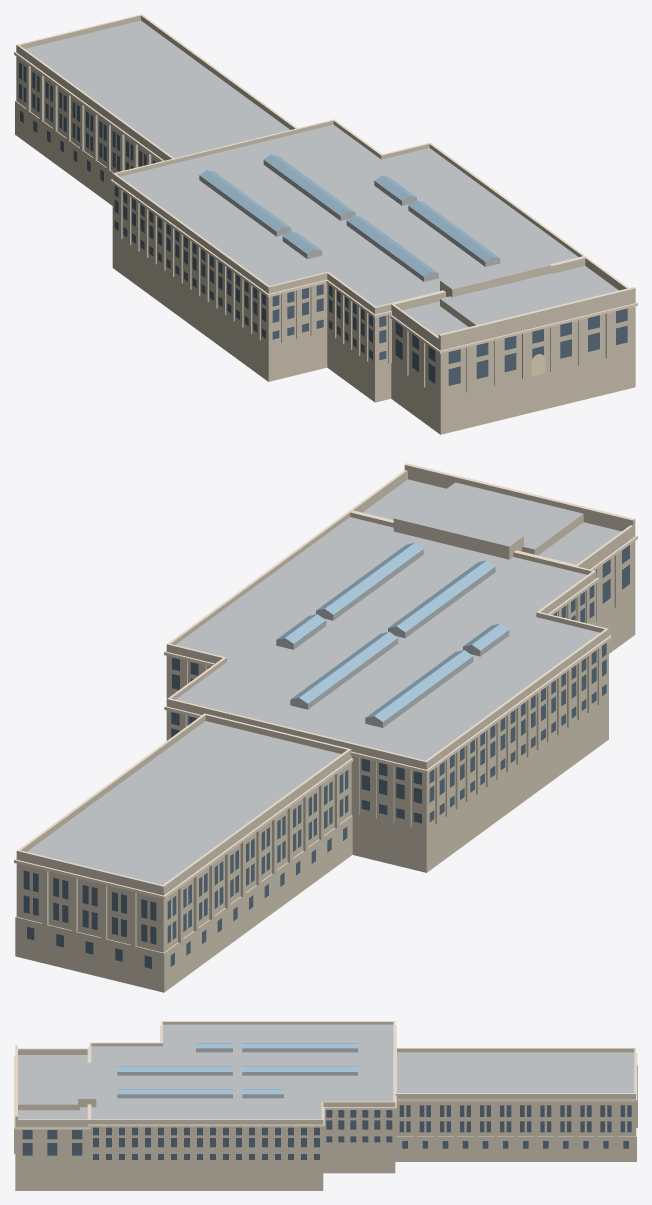
The model's file is sf-alcatraz-cellhouse.glb.
3 renders of one model, top to bottom at view 1: azimuth 30°, elevation 25°; view 2: azimuth 150°, elevation 25°; view 3: azimuth 270°, elevation 25°, orthographic. The views are drawn at different scales.
Parts seen in each view (by area): view 1: Alcatraz Main Cellhouse; view 2: Alcatraz Main Cellhouse; view 3: Alcatraz Main Cellhouse.
Boxes of the visible parts, box(x1,y1,x2,y2) form: Alcatraz Main Cellhouse: box(14, 14, 637, 434); Alcatraz Main Cellhouse: box(14, 463, 637, 992); Alcatraz Main Cellhouse: box(14, 1021, 637, 1190).
Size of the model in its own units: 51.06 by 18.2 by 135.
